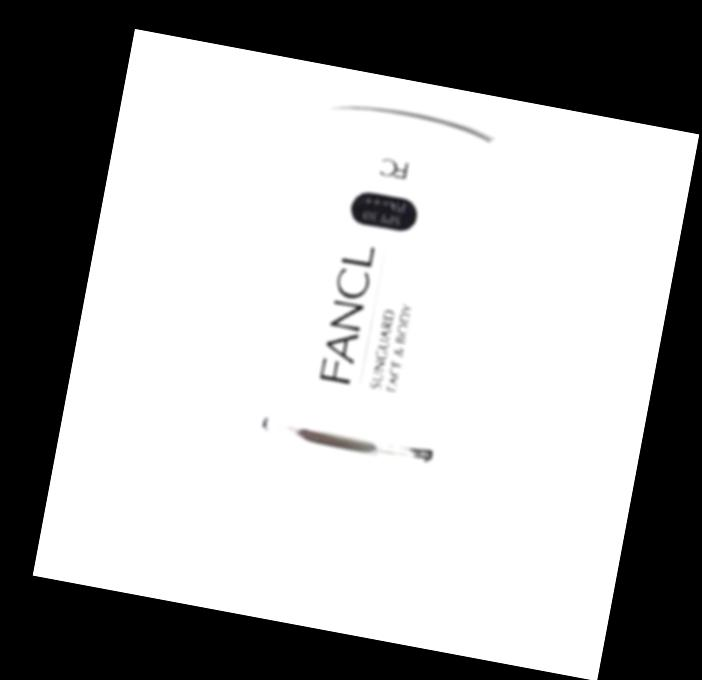cosmetic: (229, 96, 503, 571)
